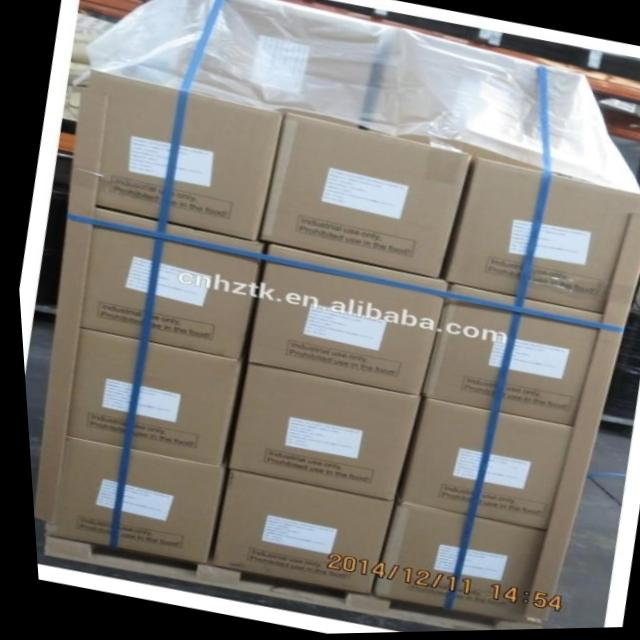box: (66, 69, 280, 239), (256, 113, 472, 280), (53, 201, 267, 359), (361, 29, 581, 175), (441, 159, 640, 318), (242, 241, 444, 395), (415, 280, 617, 432), (37, 322, 235, 466), (163, 0, 381, 130), (393, 398, 590, 537), (221, 363, 413, 501), (34, 431, 219, 562), (203, 469, 390, 593), (374, 505, 560, 625)
